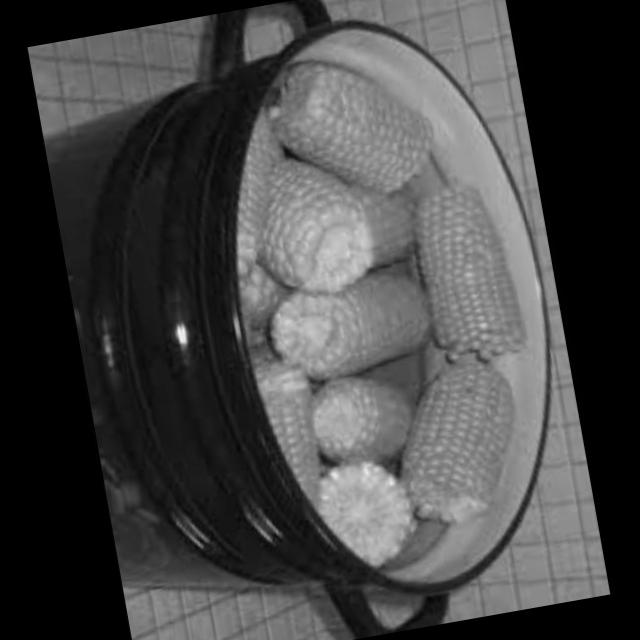ngu coc: (258, 36, 448, 212), (384, 353, 544, 534), (404, 176, 540, 374), (272, 259, 449, 401), (247, 152, 391, 307), (241, 328, 347, 512), (310, 360, 448, 490), (314, 442, 434, 560)
